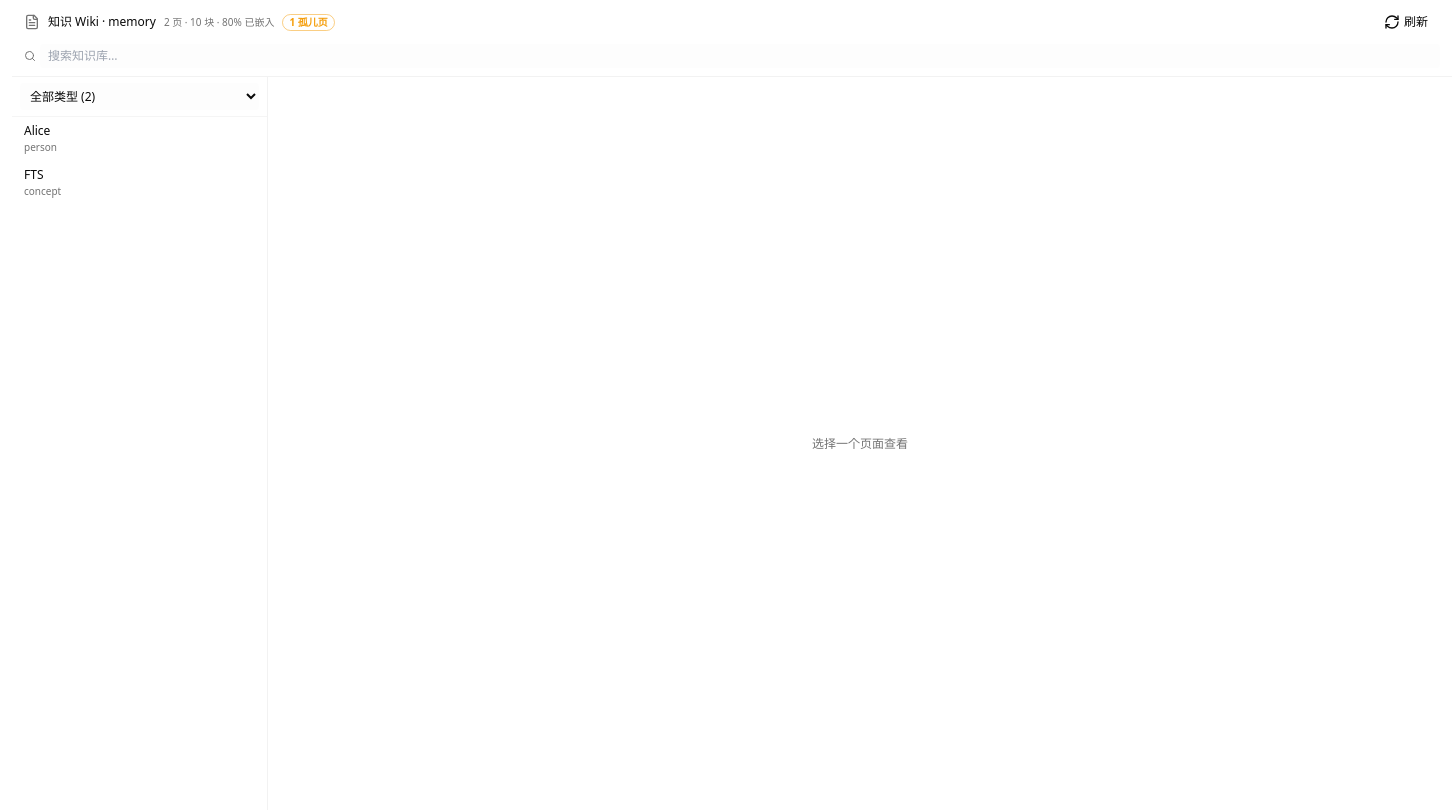
Test: WikiView › edit flow saves via memory_entity_page_put
The image size is (1452, 810).
Click the text "Alice". click: (37, 130)
box: top-left (24, 122), bottom-right (50, 139)
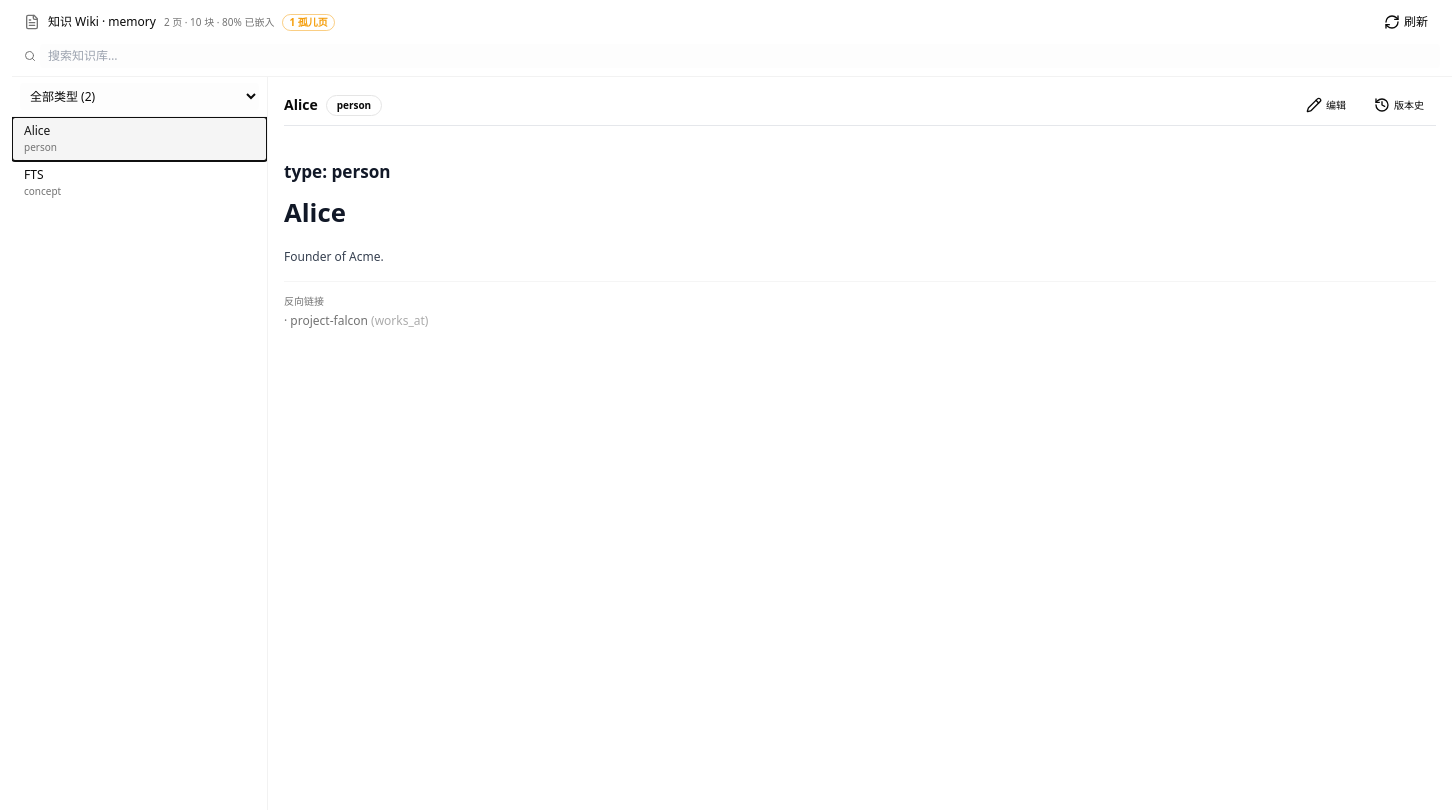
Click the button with test id "wiki-edit-btn". click: (1326, 105)
box: top-left (1294, 93), bottom-right (1358, 117)
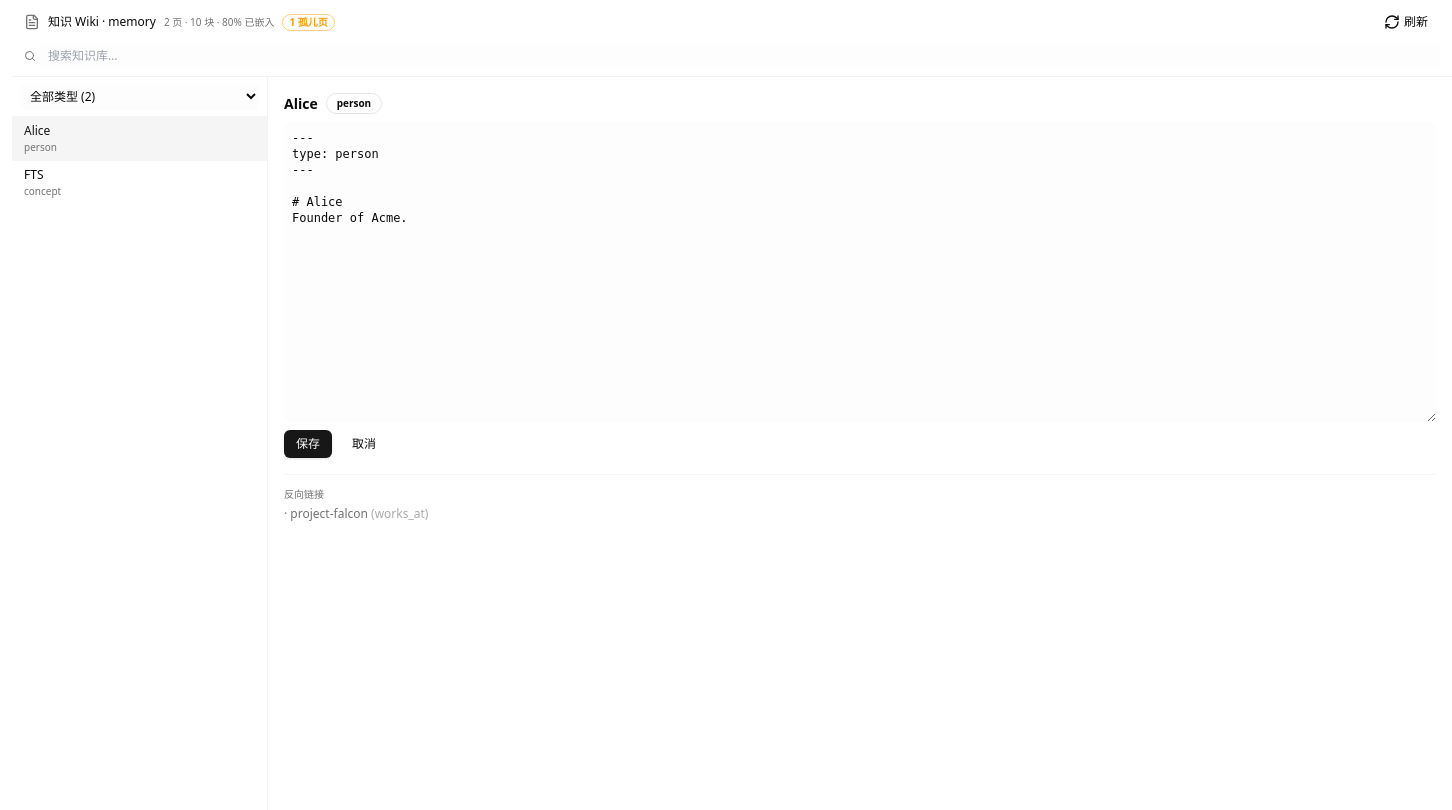
Click the button with test id "wiki-save-btn". click: (308, 444)
box: top-left (284, 430), bottom-right (332, 458)
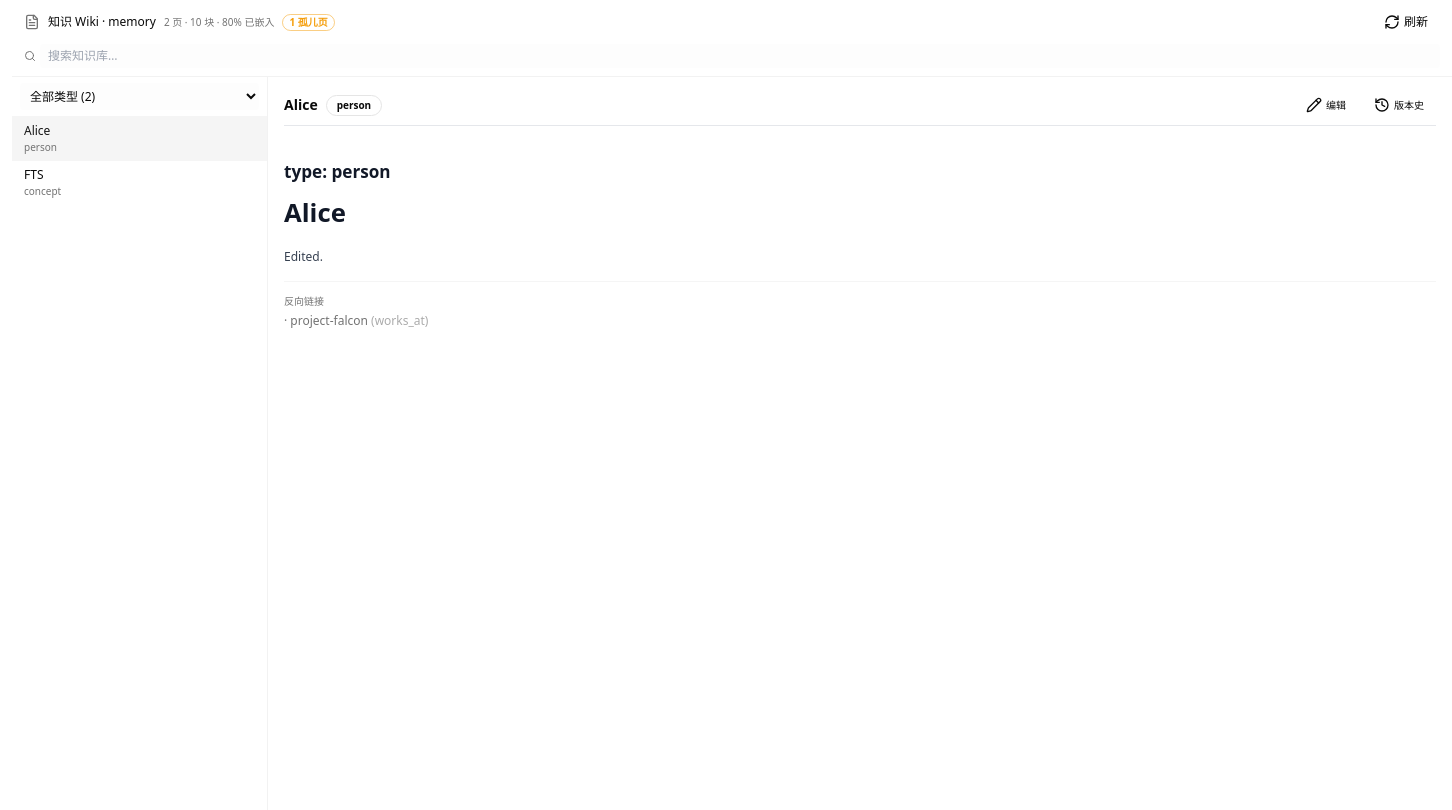
Check: the element with test id "wiki-detail-body" shows "Edited", box top-left (284, 248), bottom-right (323, 265)
